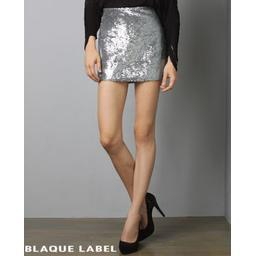skirt: (97, 6, 164, 82)
